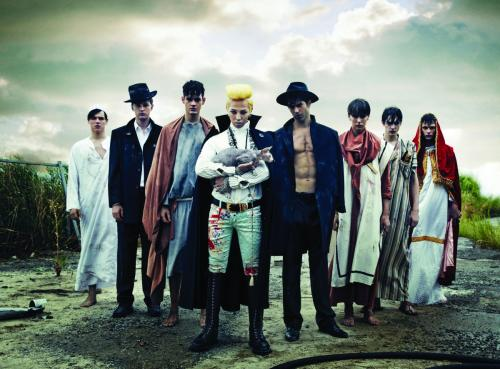no_mask: (275, 78, 319, 125), (123, 80, 159, 127), (221, 83, 255, 130), (179, 78, 206, 117), (344, 98, 373, 132), (415, 110, 442, 144), (381, 104, 405, 139), (83, 105, 108, 137)
